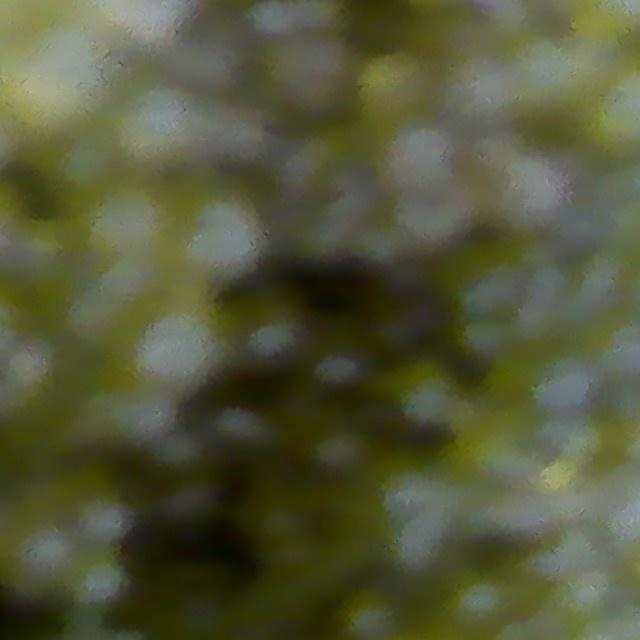SeaGrape: (0, 13, 112, 139), (130, 295, 229, 394), (110, 81, 208, 176), (84, 178, 178, 270), (262, 27, 357, 117), (175, 189, 265, 283), (375, 119, 458, 197), (0, 520, 78, 601), (357, 49, 436, 124), (389, 359, 460, 430), (587, 310, 640, 386), (66, 548, 125, 606), (73, 492, 131, 548)
